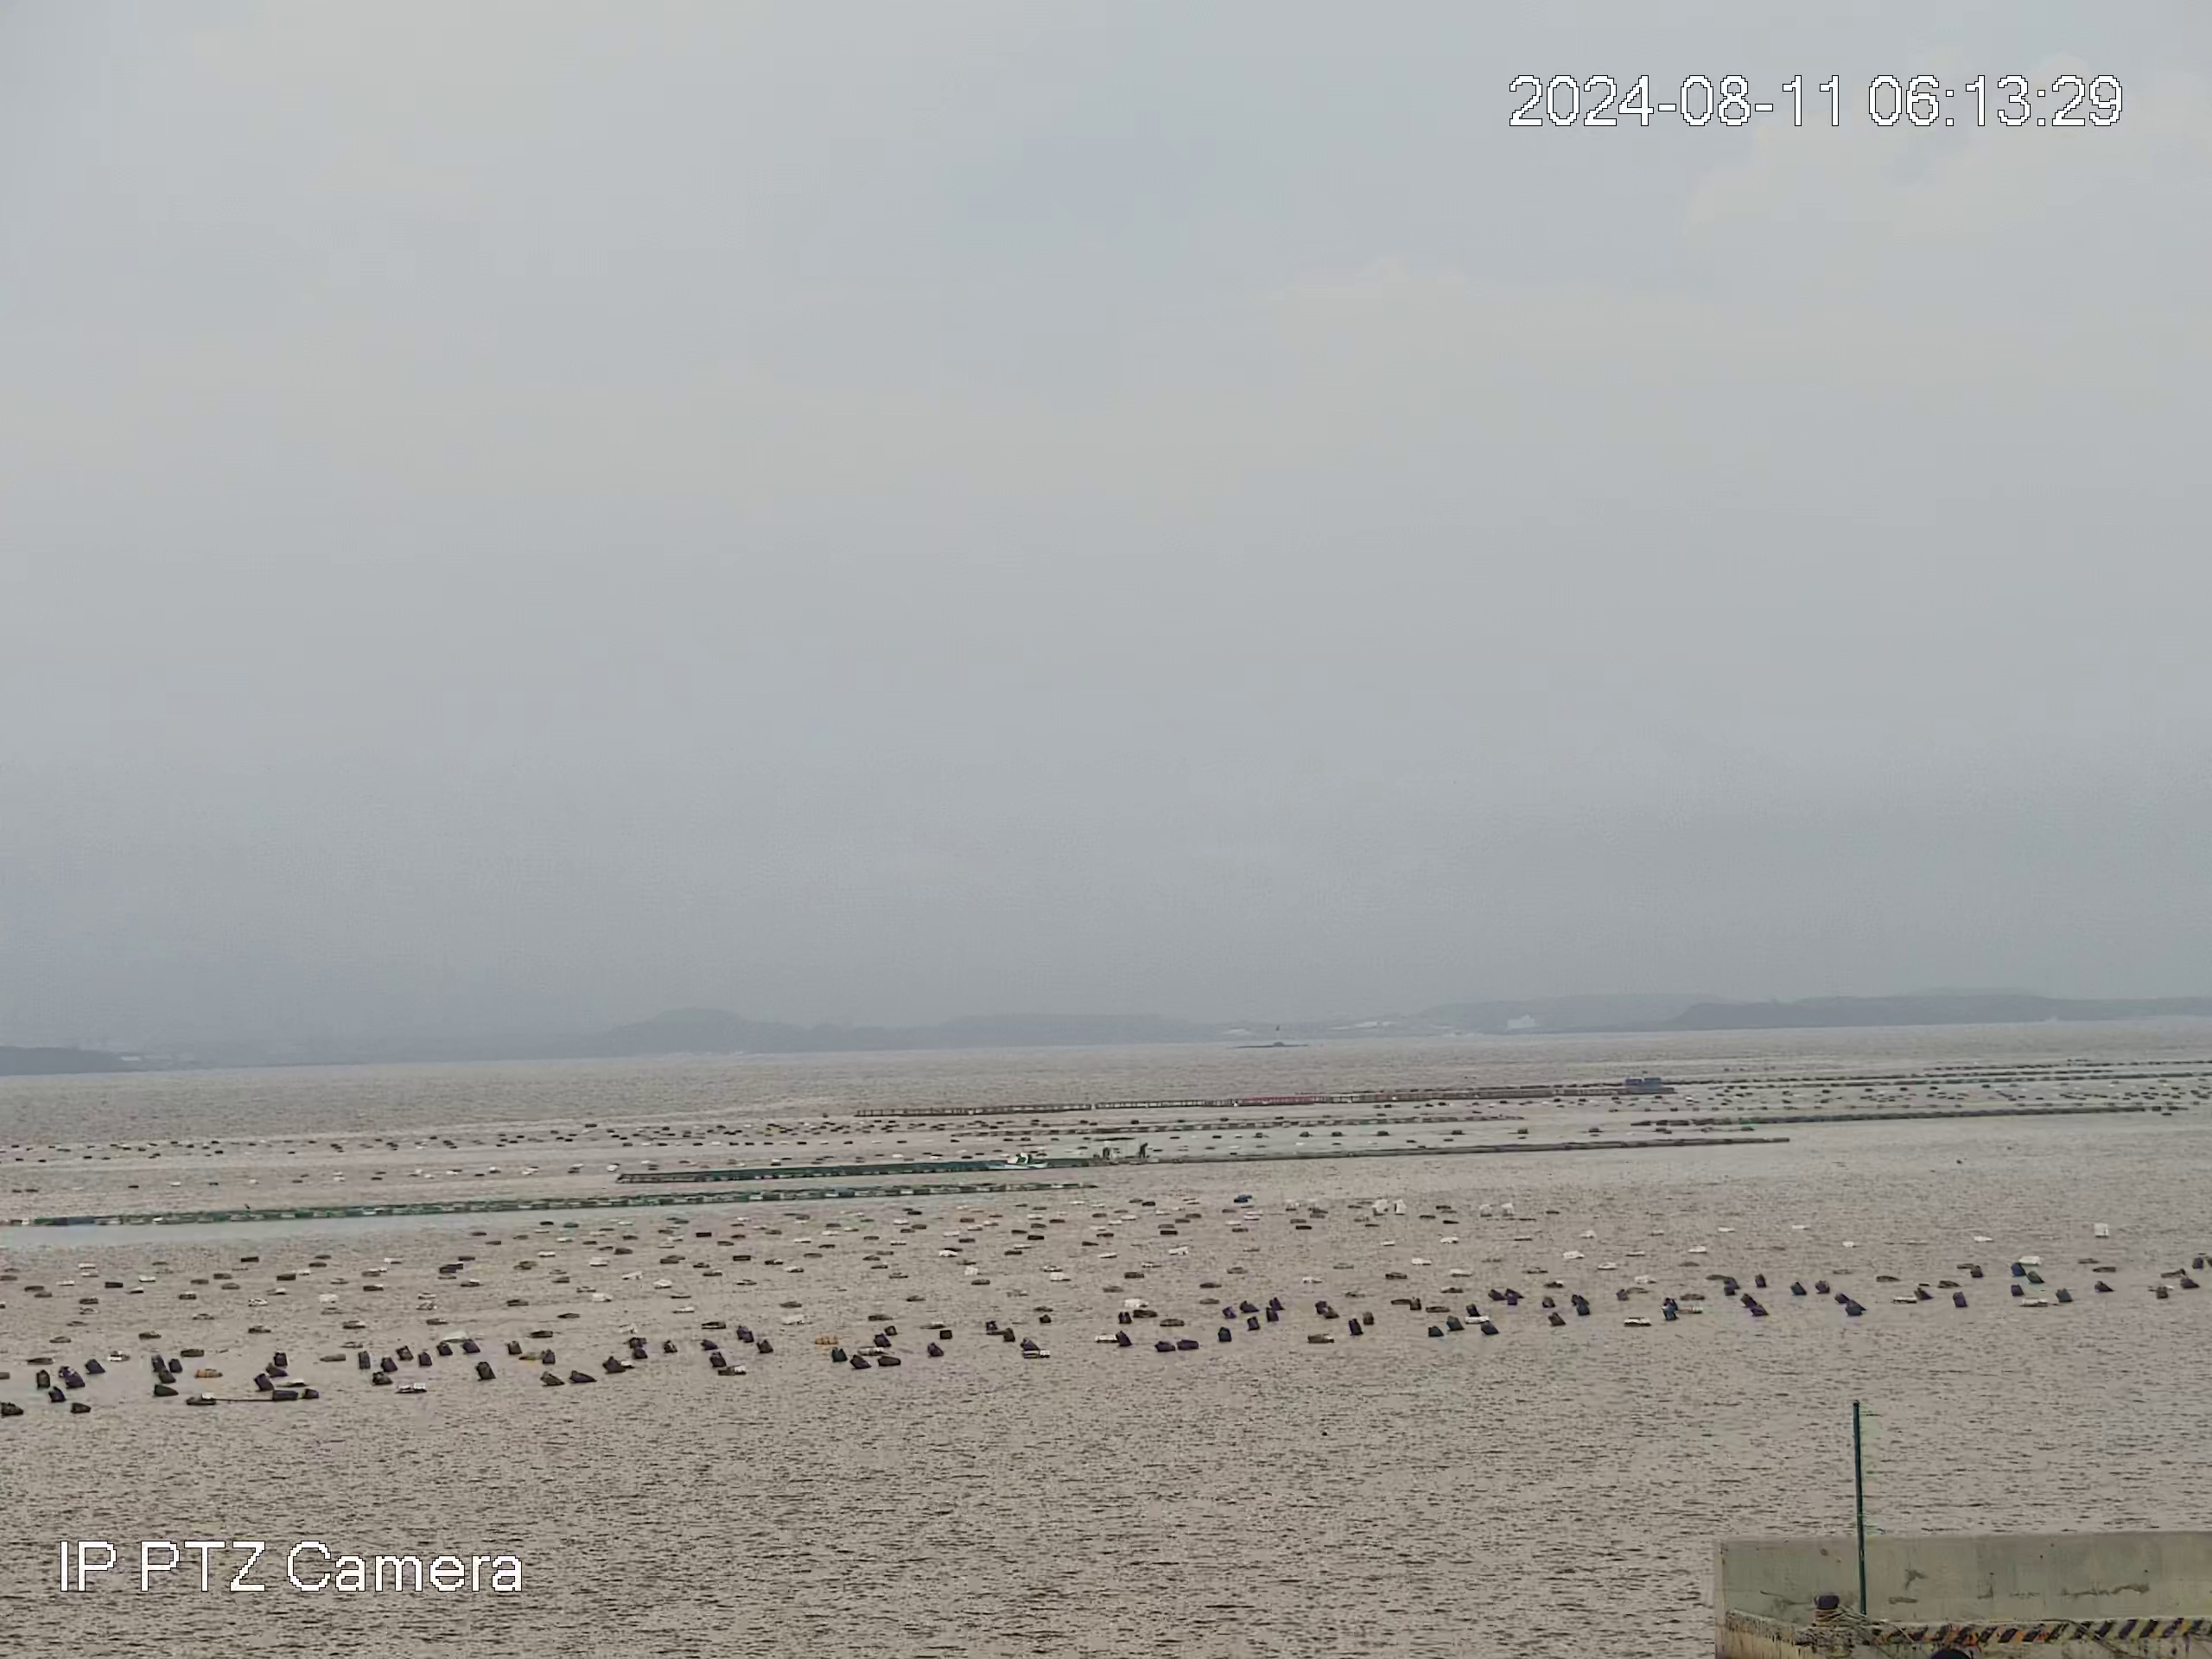boat: (979, 1150, 1052, 1171)
